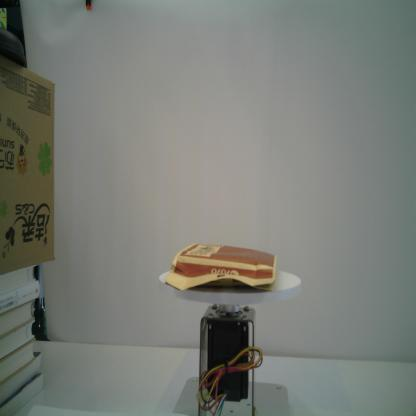Dried Food: (164, 240, 278, 295)
